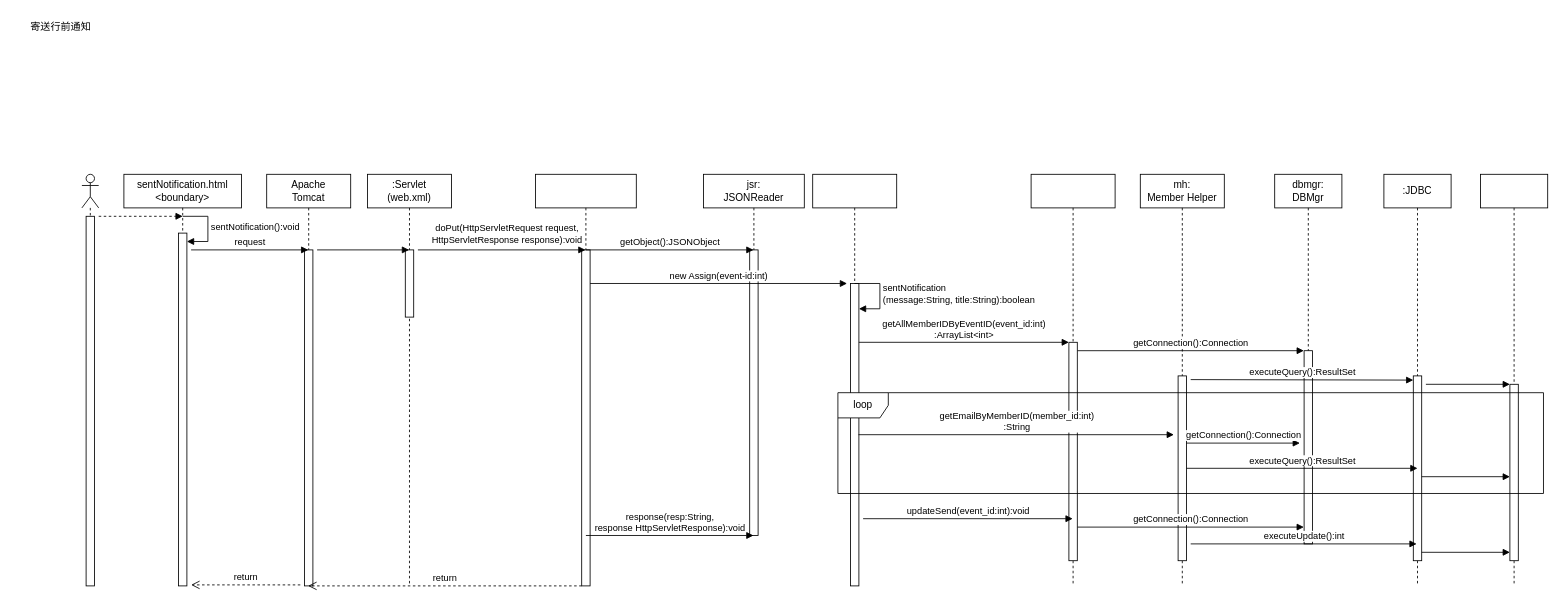
Some shapes in this 1562 by 609 pixel diagram are drawn without their labels. Here are the shapes that lost their labels. From the top down, the box of each, then its label:
(535, 173, 636, 586): :AssignedController
(812, 173, 897, 586): as: Assigned
(1030, 173, 1115, 586): ah: Assigned Helper
(1480, 173, 1548, 586): Database
